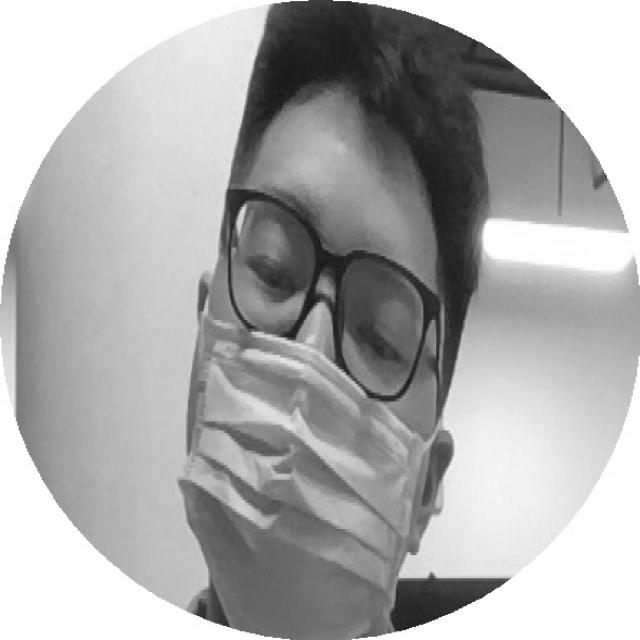fake: (177, 316, 436, 640)
real: (248, 239, 429, 371)
